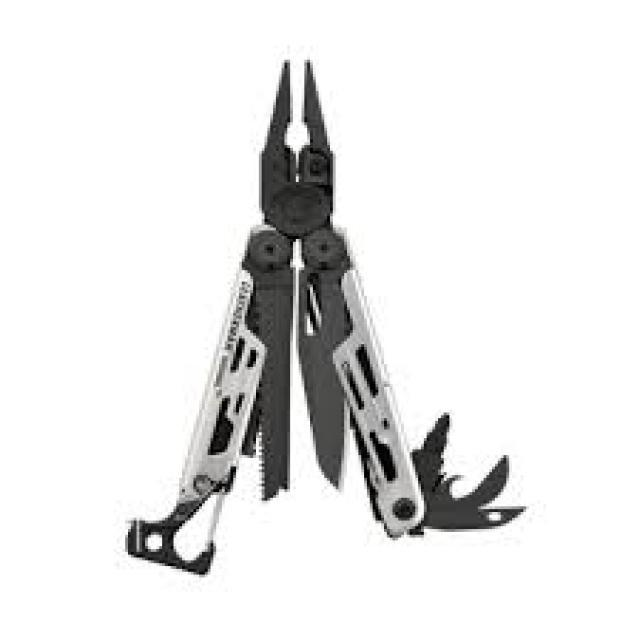pliers: (182, 49, 418, 538)
